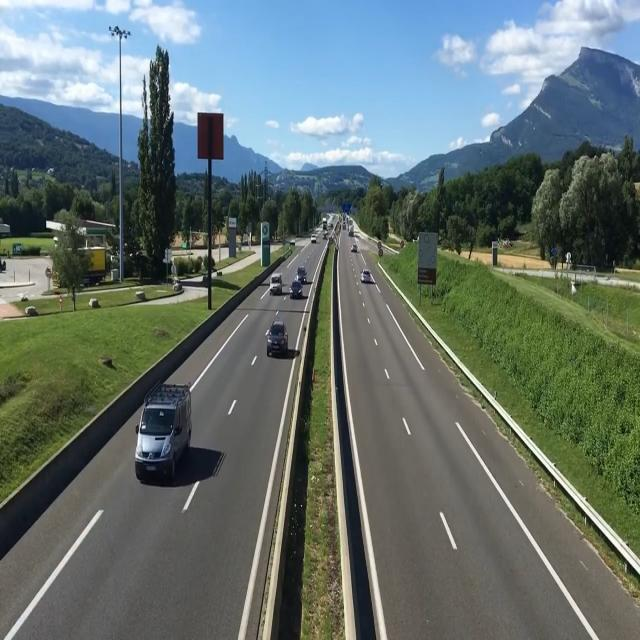car: (134, 379, 192, 488), (267, 319, 288, 359), (271, 269, 282, 301), (291, 276, 303, 303), (360, 266, 374, 288)
